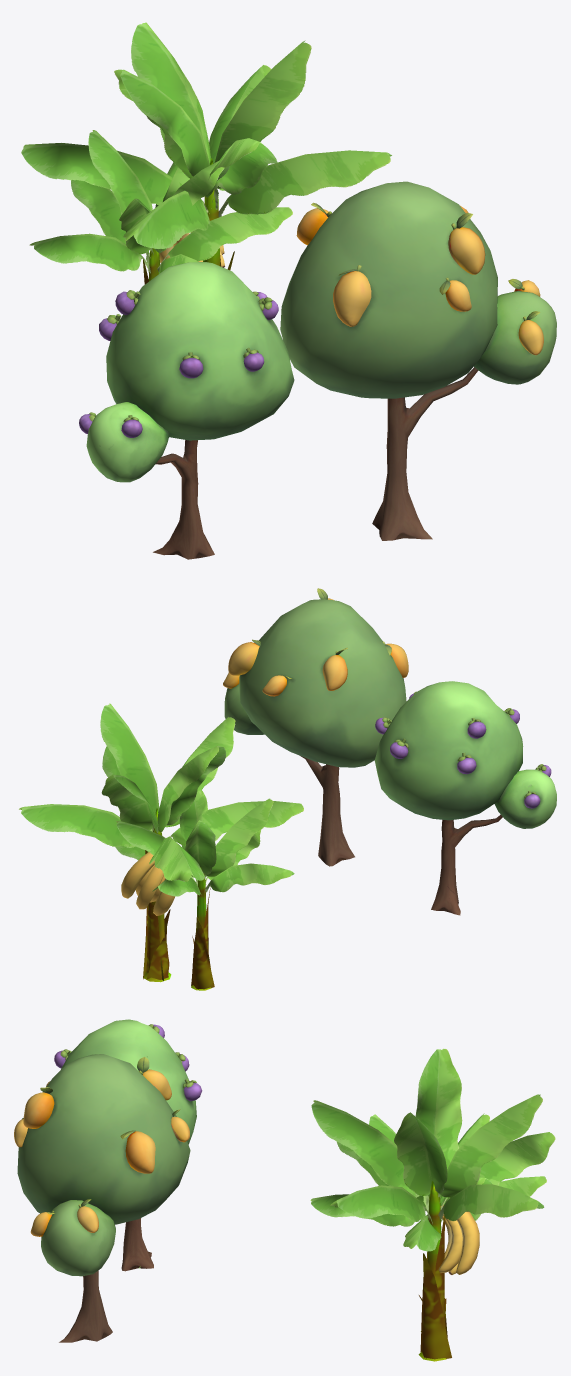
Rendered from Trees.fbx.
3 views of the same model, one above another, from view 1: azimuth 30°, elevation 25°; view 2: azimuth 150°, elevation 25°; view 3: azimuth 270°, elevation 25° (orthographic). The views are drawn at different scales.
Visible parts, largest first — view 1: Mango_Tree, Banana_tree, Mangoteen_Tree; view 2: Banana_tree, Mango_Tree, Mangoteen_Tree; view 3: Mango_Tree, Banana_tree, Mangoteen_Tree.
Part boxes in pixels (x1,y1,x2,y2): Mango_Tree: [280, 181, 556, 540]; Banana_tree: [21, 22, 391, 284]; Mangoteen_Tree: [79, 262, 294, 559]; Banana_tree: [19, 703, 303, 990]; Mango_Tree: [223, 588, 408, 866]; Mangoteen_Tree: [374, 681, 556, 915]; Mango_Tree: [14, 1054, 190, 1342]; Banana_tree: [310, 1048, 555, 1361]; Mangoteen_Tree: [54, 1019, 202, 1271].
Bounding box in the file's own units: 299 × 222 × 382.
